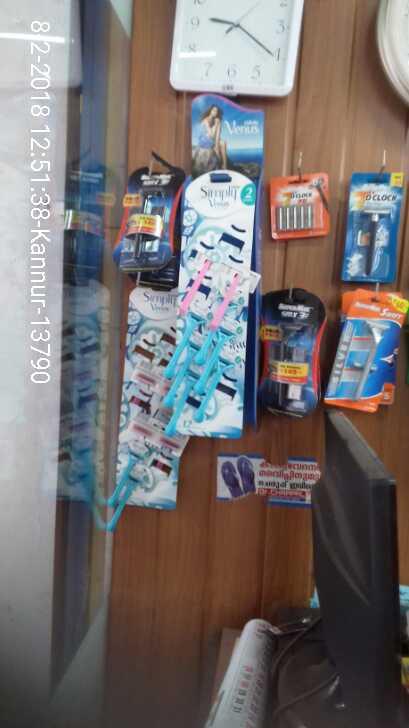reject: (136, 73, 343, 291)
